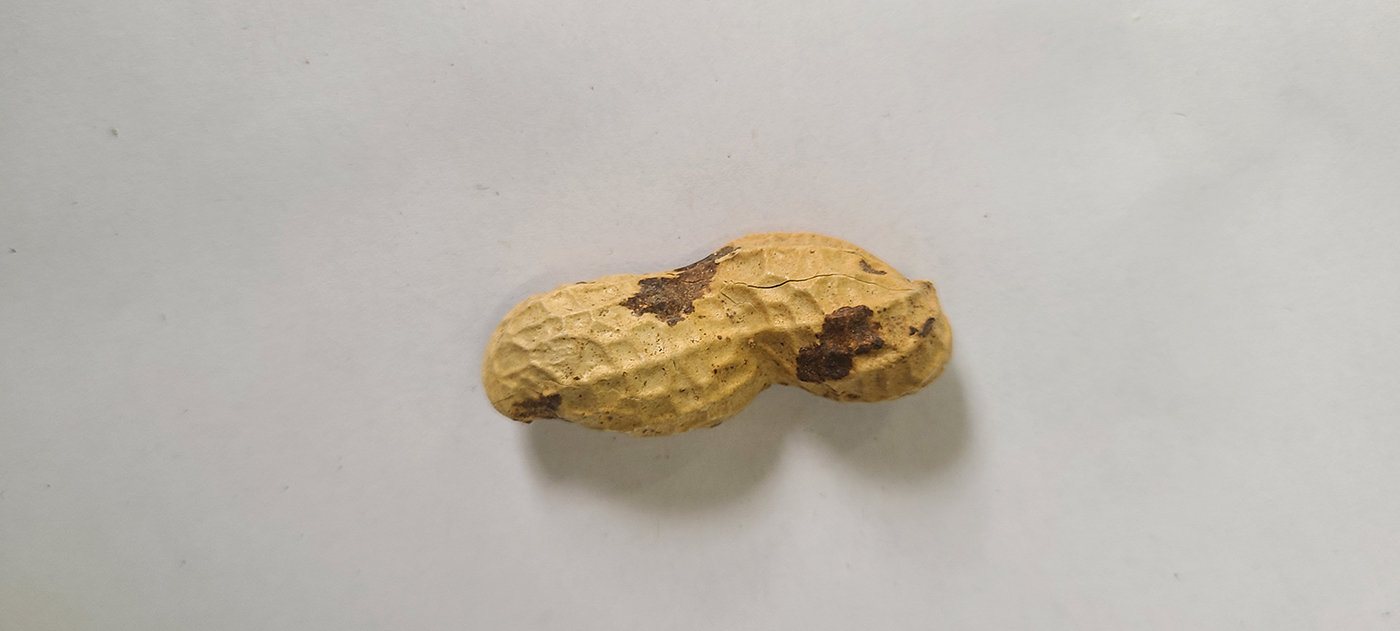h: (482, 227, 955, 442)
